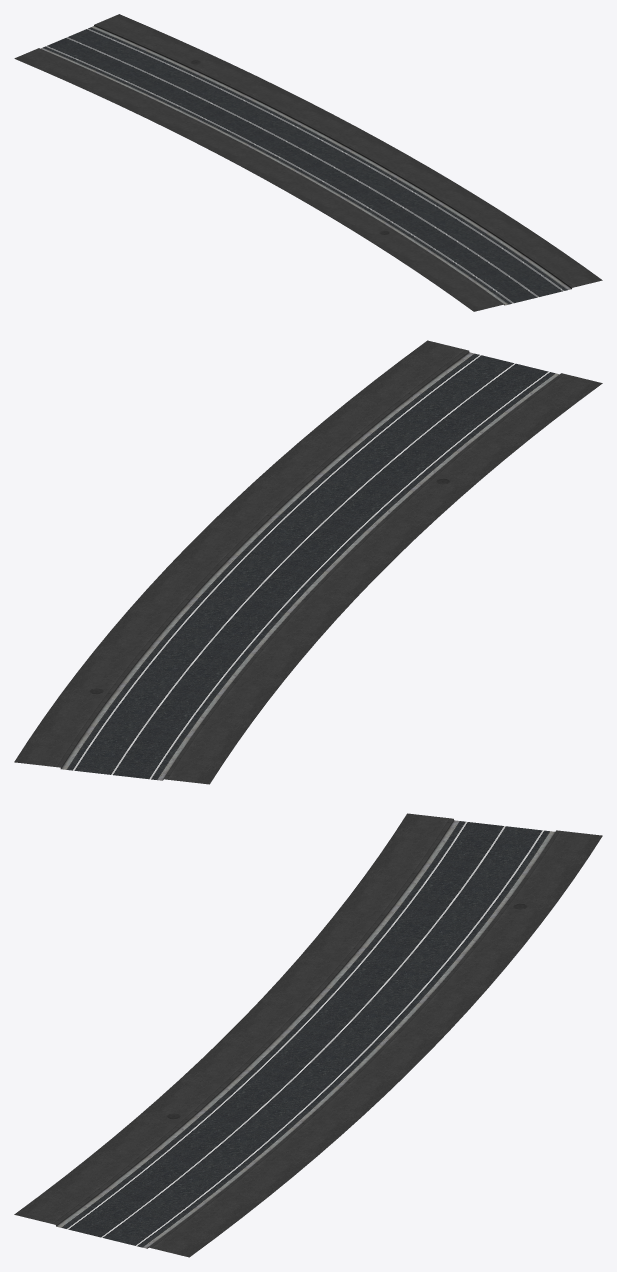
The model's file is city_road_cont_marking_15left.fbx.
3 renders of one model, top to bottom at view 1: azimuth 30°, elevation 25°; view 2: azimuth 150°, elevation 25°; view 3: azimuth 330°, elevation 25°, orthographic. The views are drawn at different scales.
Parts seen in each view (by area): view 1: obj0; view 2: obj0; view 3: obj0.
Part boxes in pixels (x1,y1,x2,y2): obj0: (14, 14, 602, 311); obj0: (14, 340, 602, 784); obj0: (14, 813, 602, 1257).
Size of the model in its own units: 48.55 by 0.254 by 154.
